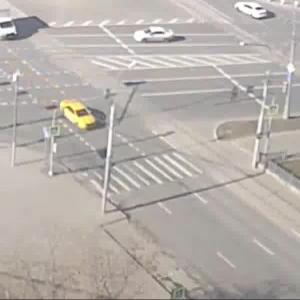car: (61, 98, 99, 130), (230, 2, 271, 23), (134, 29, 181, 45), (1, 3, 19, 41)
